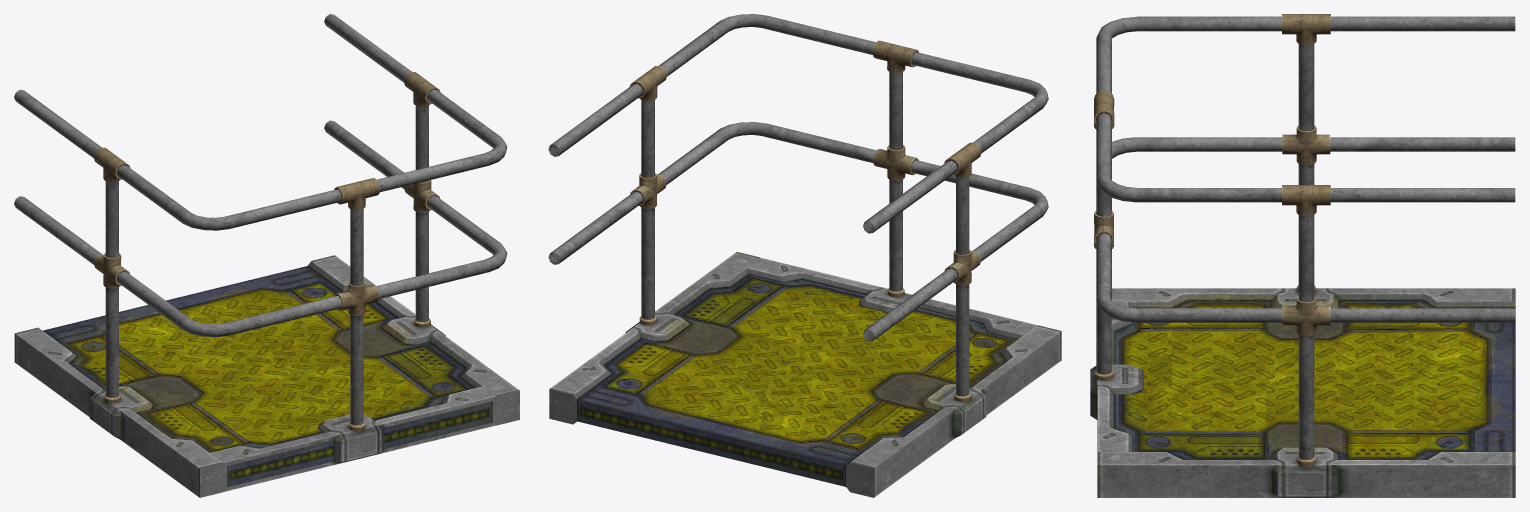
File: catwalk_end.dae
3 views of the same model, side by side, from view 1: azimuth 30°, elevation 25°; view 2: azimuth 150°, elevation 25°; view 3: azimuth 270°, elevation 25° (orthographic). The views are drawn at different scales.
Visible parts, largest first — view 1: end, railing__4_; view 2: end, railing__4_; view 3: end, railing__4_.
Part boxes in pixels (left/top/right/bottom): end: left=14, top=255, right=519, bottom=497; railing__4_: left=14, top=14, right=507, bottom=432; end: left=549, top=252, right=1061, bottom=497; railing__4_: left=548, top=14, right=1048, bottom=402; end: left=1090, top=288, right=1515, bottom=497; railing__4_: left=1094, top=14, right=1515, bottom=468.
Size of the model in its own units: 2.07 by 1.63 by 2.04.
